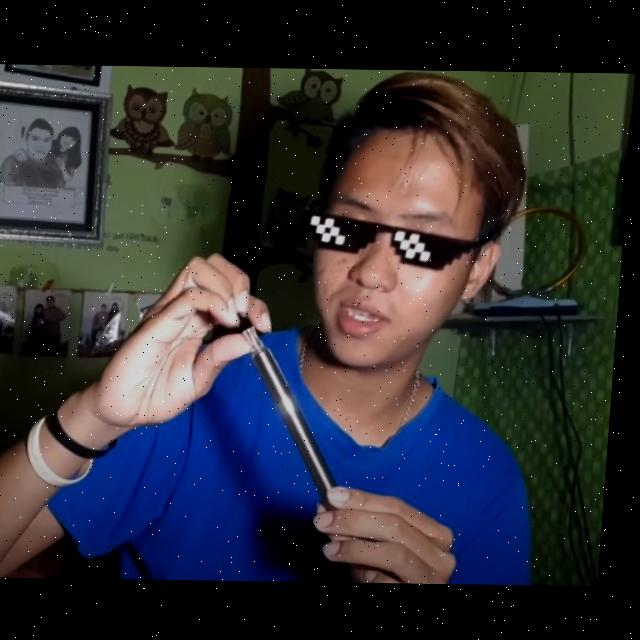vape: (238, 325, 358, 510)
